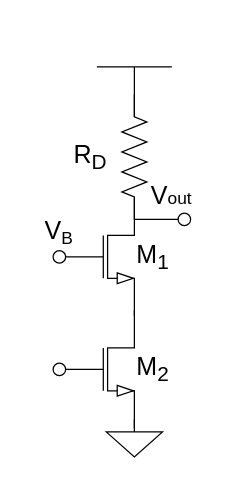
Some shapes in this 230 by 479 pixel diagram are drawn without their labels. The shapes that lost their labels are listed below. From the top down, each one's box as (x1, y1, x2, y2) in pixels, then its label:
(96, 66, 172, 117): V dd
(58, 306, 134, 432): V in
